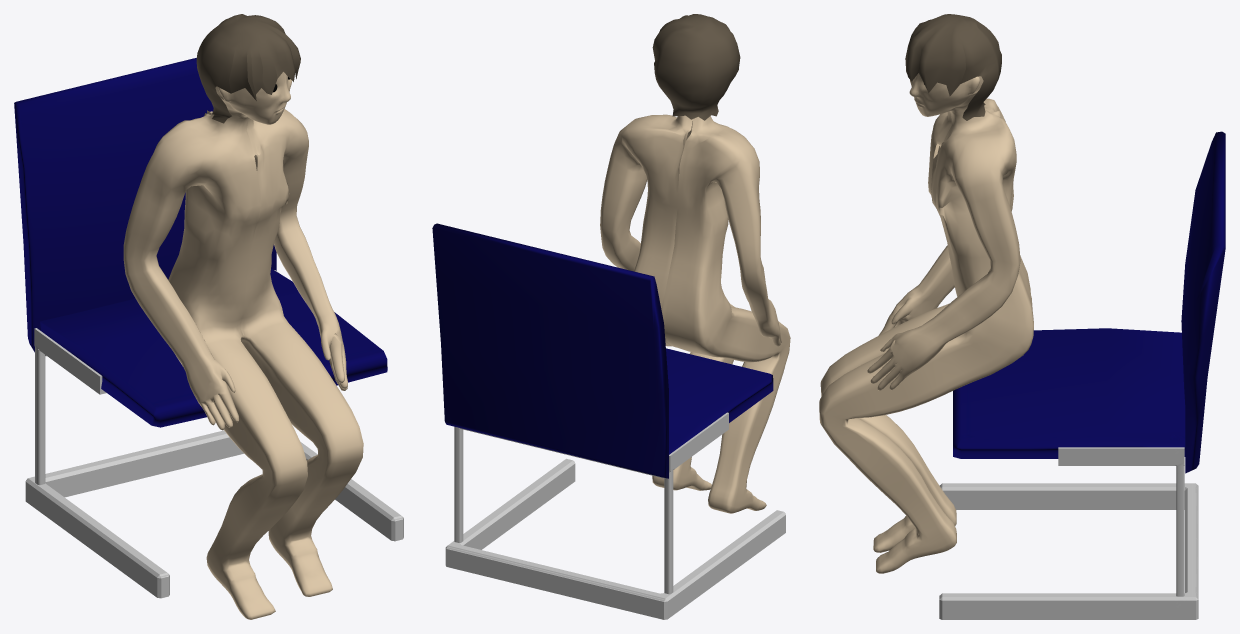
The model's file is lookflower.fbx.
3 renders of one model, left to right at view 1: azimuth 30°, elevation 25°; view 2: azimuth 150°, elevation 25°; view 3: azimuth 270°, elevation 25°, orthographic. The views are drawn at different scales.
Parts seen in each view (by area): view 1: polySurface17, chair_1:polySurface2; view 2: chair_1:polySurface2, polySurface17; view 3: chair_1:polySurface2, polySurface17.
Boxes of the visible parts, <box> form: polySurface17: <box>123,14,363,619</box>; chair_1:polySurface2: <box>14,58,403,598</box>; chair_1:polySurface2: <box>432,223,785,619</box>; polySurface17: <box>600,14,790,513</box>; chair_1:polySurface2: <box>939,131,1225,619</box>; polySurface17: <box>819,14,1033,573</box>.
Size of the model in its own units: 6.73 by 14.47 by 9.86.
Materials: 4 (1 with a texture image).
